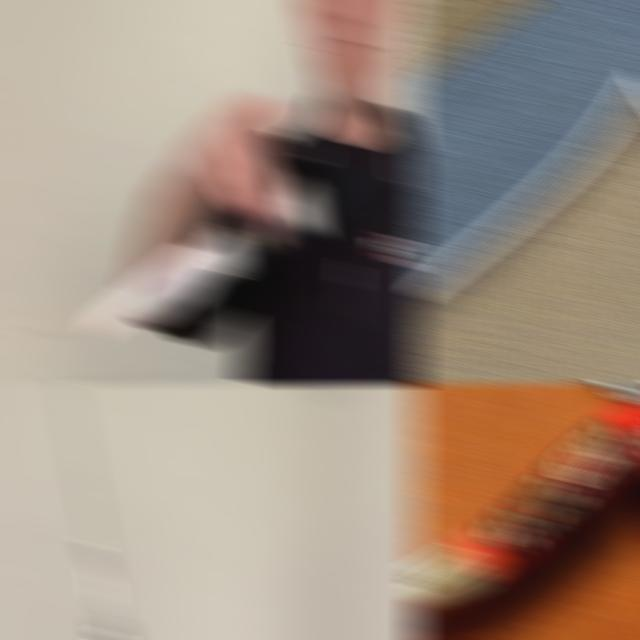Knife_Handle: (87, 91, 325, 344), (35, 382, 190, 640)
